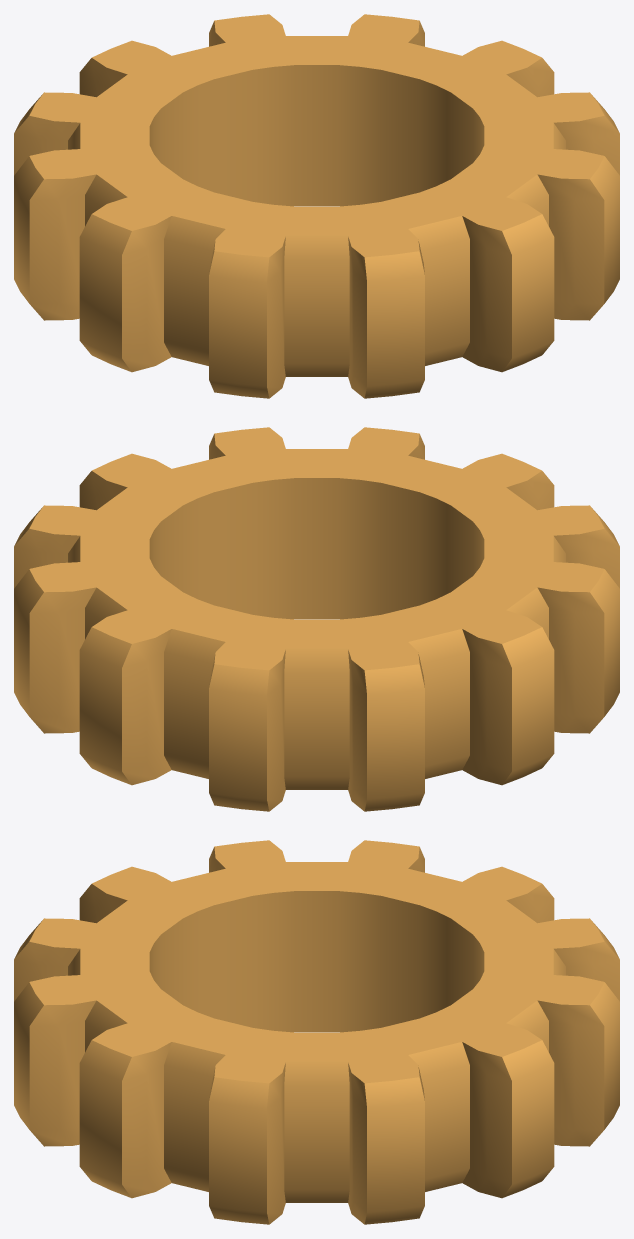
The model's file is Gear_12P_01.fbx.
3 views of the same model, one above another, from view 1: azimuth 30°, elevation 25°; view 2: azimuth 150°, elevation 25°; view 3: azimuth 270°, elevation 25° (orthographic).
Parts seen in each view (by area): view 1: Gear_12P_01; view 2: Gear_12P_01; view 3: Gear_12P_01.
Part boxes in pixels (left/top/right/bottom): Gear_12P_01: left=14, top=14, right=619, bottom=398; Gear_12P_01: left=14, top=427, right=619, bottom=811; Gear_12P_01: left=14, top=840, right=619, bottom=1224.
Size of the model in its own units: 389 by 100 by 389.
